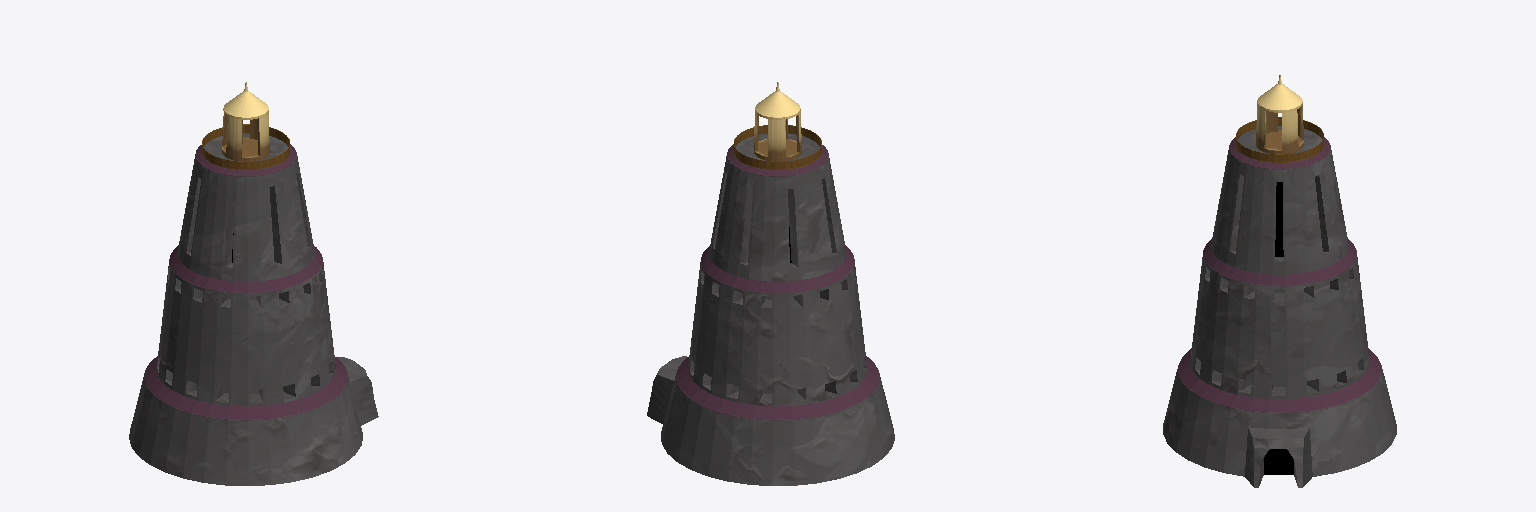
The picture shows the model from 3 angles: view 1: azimuth 30°, elevation 25°; view 2: azimuth 150°, elevation 25°; view 3: azimuth 270°, elevation 25°; orthographic projection.
Visible parts, largest first — view 1: Cylinder; view 2: Cylinder; view 3: Cylinder.
Boxes of the visible parts, x1=… form: Cylinder: x1=129, y1=82, x2=378, y2=485; Cylinder: x1=647, y1=82, x2=894, y2=485; Cylinder: x1=1163, y1=75, x2=1396, y2=487.
Size of the model in its own units: 24.87 by 38.17 by 22.67.
Materials: 5 (1 with a texture image).